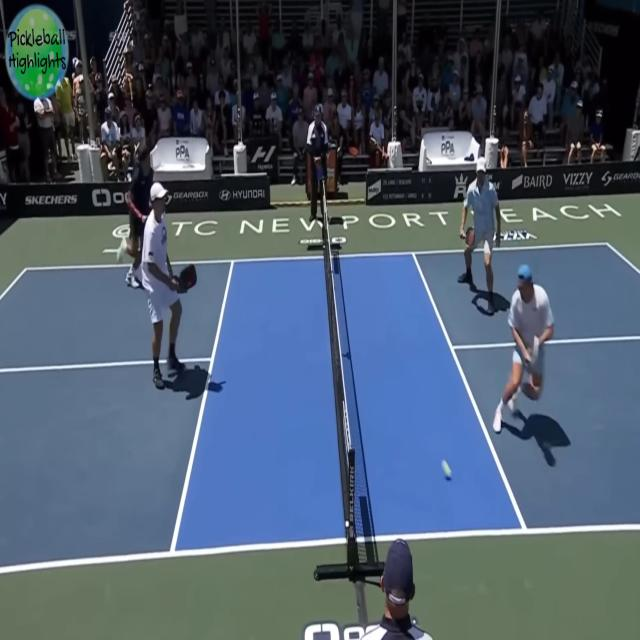ball: (439, 456, 457, 488)
